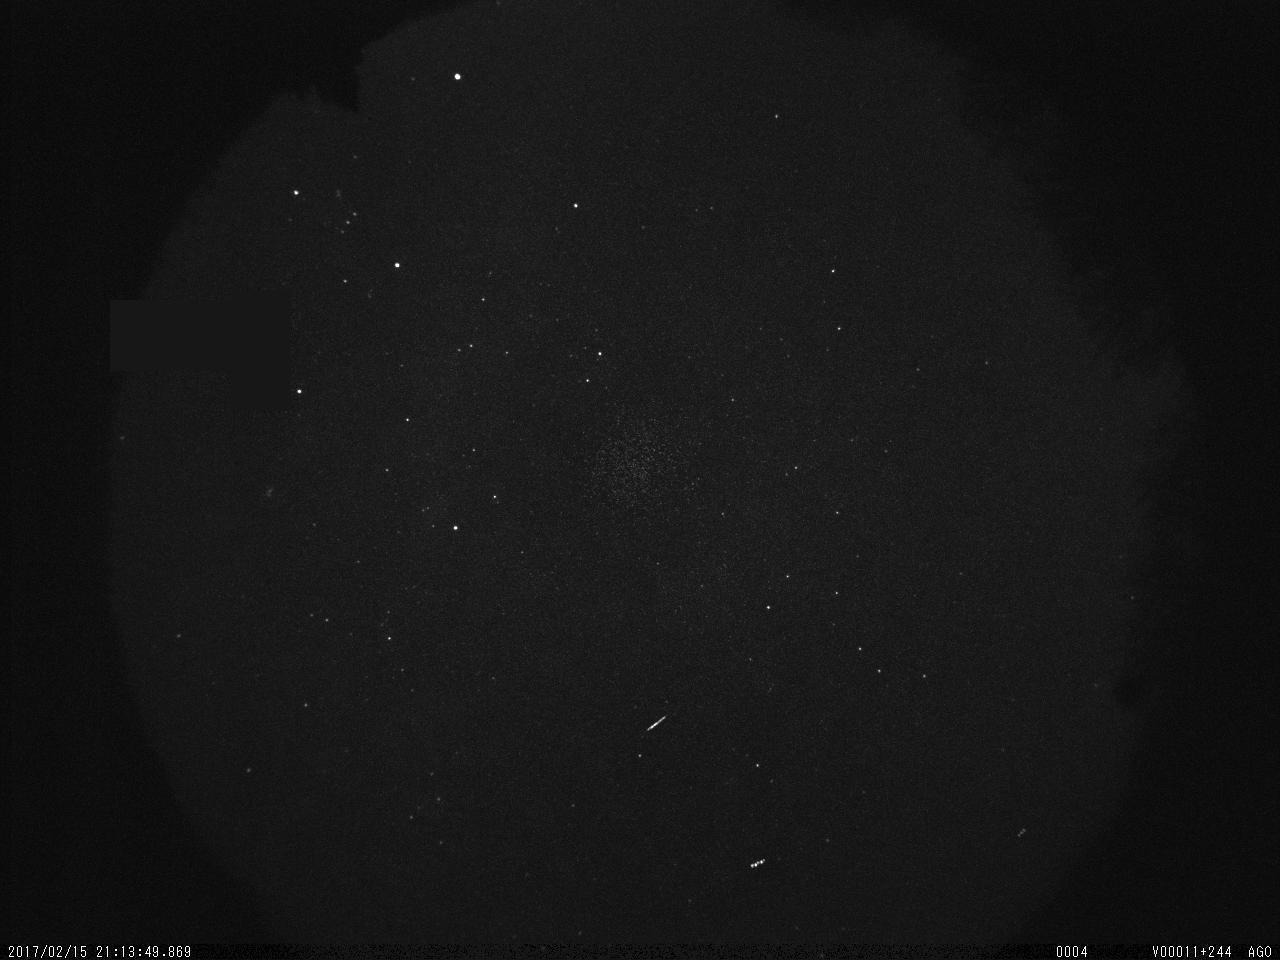Meteor: (644, 713, 668, 733)
